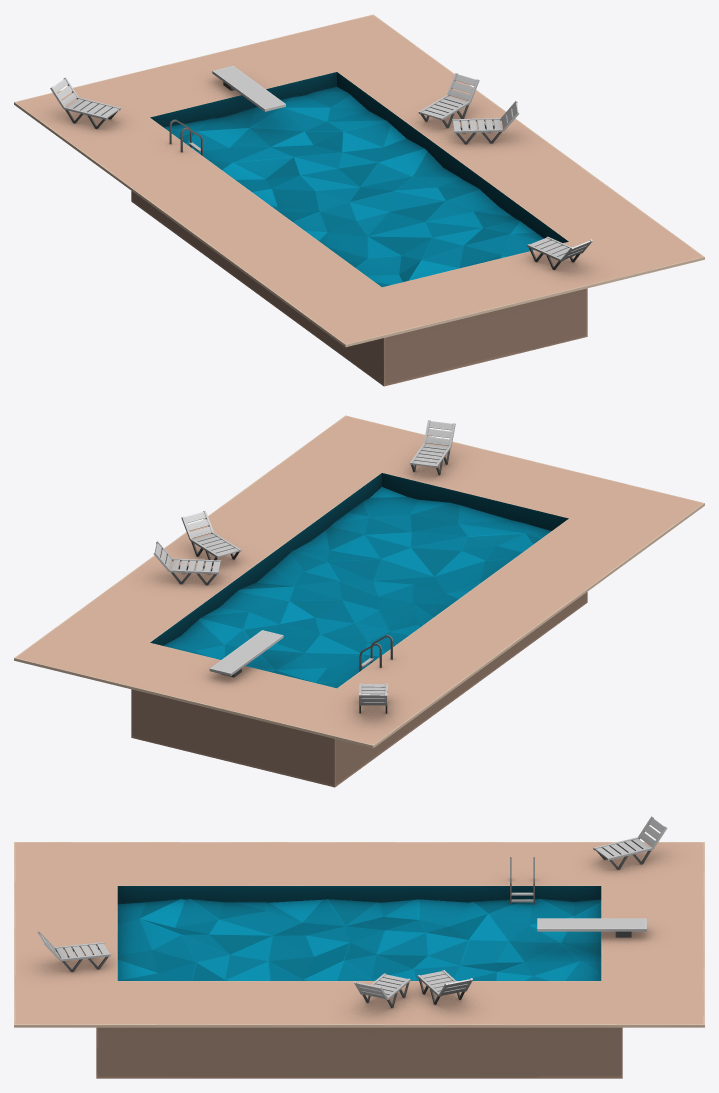
The model's file is SwimmingPool.obj.
3 renders of one model, top to bottom at view 1: azimuth 30°, elevation 25°; view 2: azimuth 150°, elevation 25°; view 3: azimuth 270°, elevation 25°, orthographic. The views are drawn at different scales.
Bounding box in the file's own units: 26.8 × 8.56 × 42.82.
1 material, 1 textured.
